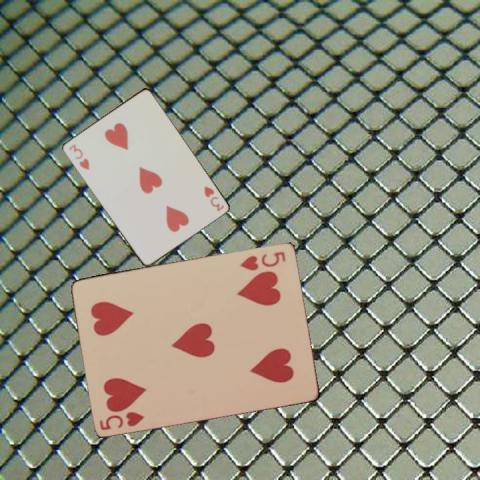3h: (65, 142, 91, 172), (200, 182, 224, 212)
5h: (236, 248, 287, 272), (97, 408, 146, 431)
